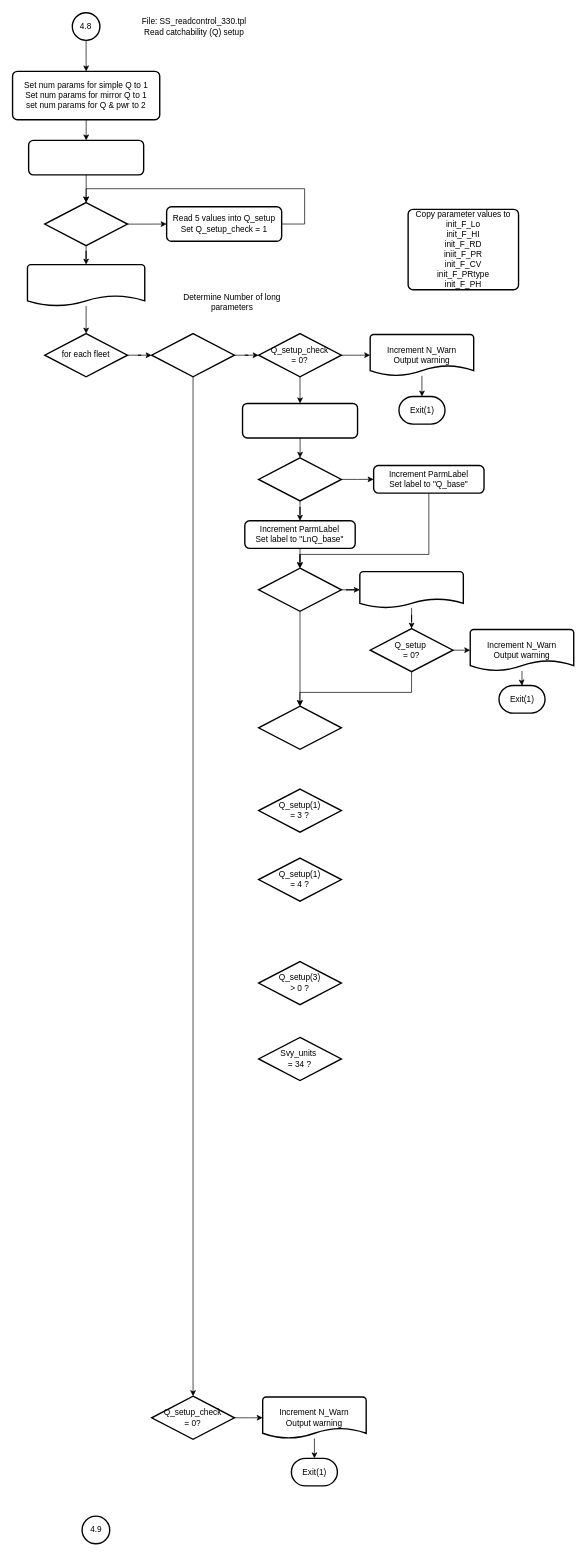
Image size: 587x1556. Some labels were removed from this diagram. Here are the shapes that lost their labels. From the top down, the centre of each, then its label:
[86,157]: Set firstQparm to ParCount
[86,223]: Read fleet number > 0 ?
[85,285]: Output Q_setup to echoinput
[193,355]: Svy_N_fleet > 0?
[299,420]: Increment Q_Npar Increment ParCount Index first parameter
[300,479]: Svy_errtype = -1?
[300,589]: Svy_units = 35?
[411,589]: Output "fleet is a survey of dev vector" to echoinput
[300,727]: Q_setup(1) = 2?
